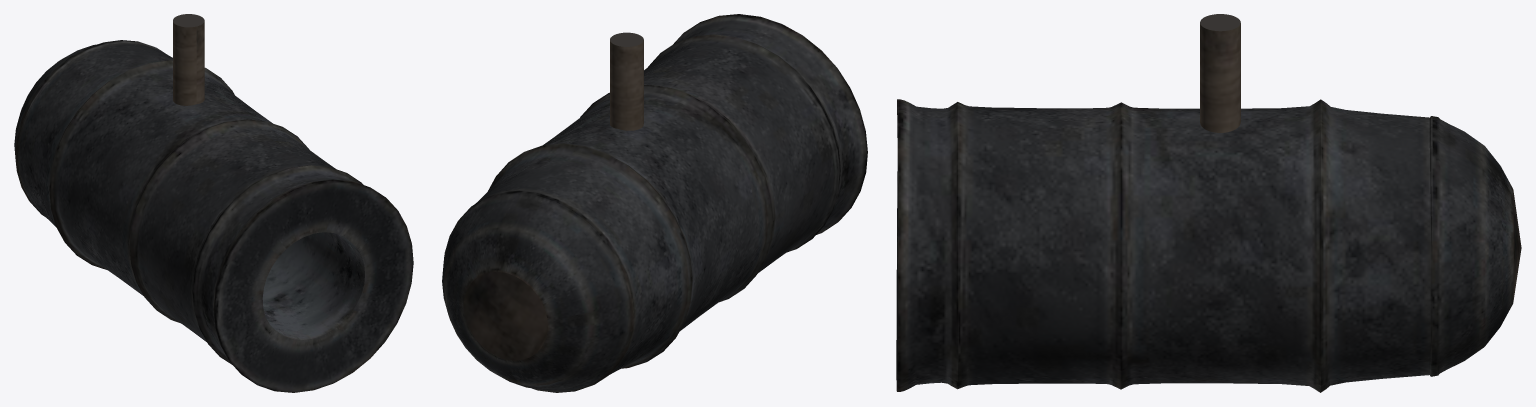
File: Cannon.fbx
The picture shows the model from 3 angles, left to right: view 1: azimuth 30°, elevation 25°; view 2: azimuth 150°, elevation 25°; view 3: azimuth 270°, elevation 25°; orthographic projection. The views are drawn at different scales.
Visible parts, largest first — view 1: Circle_002.001; view 2: Circle_002.001; view 3: Circle_002.001.
Part boxes in pixels (x1,y1,x2,y2): Circle_002.001: [14, 14, 413, 392]; Circle_002.001: [442, 14, 867, 392]; Circle_002.001: [896, 14, 1521, 392].
Size of the model in its own units: 137 by 182 by 289.
Materials: 1 (1 with a texture image).
